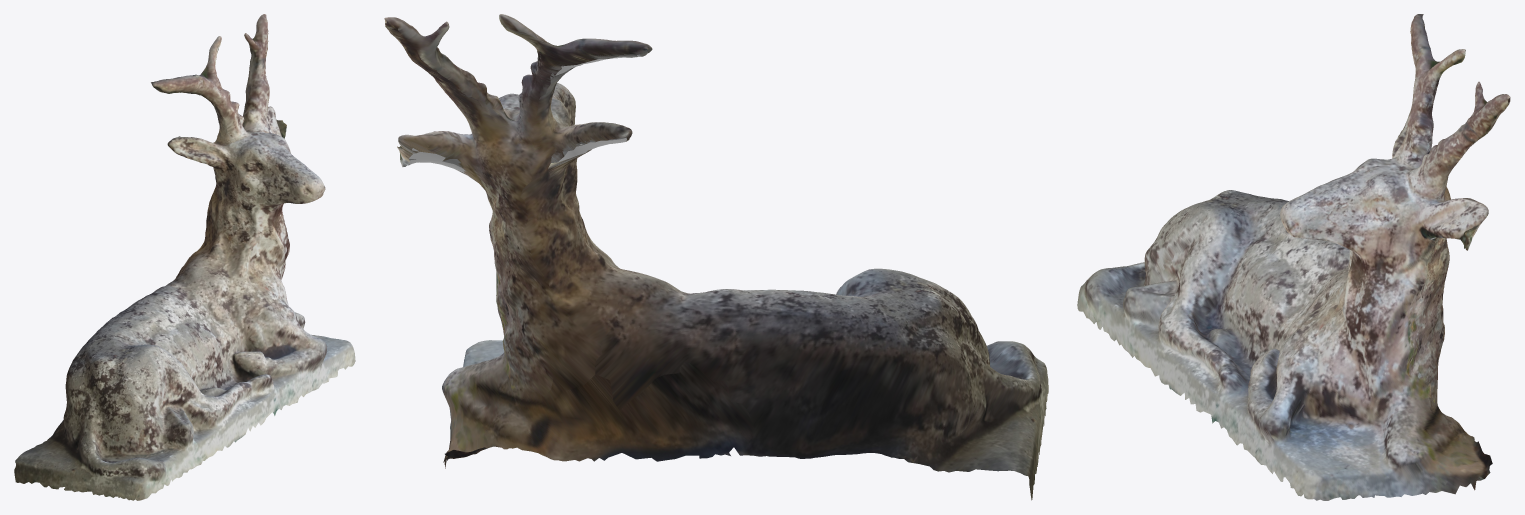
File: deer.glb
3 views of the same model, side by side, from view 1: azimuth 30°, elevation 25°; view 2: azimuth 150°, elevation 25°; view 3: azimuth 270°, elevation 25° (orthographic). The views are drawn at different scales.
Visible parts, largest first — view 1: Object_2, Object_3, Object_4; view 2: Object_3, Object_2, Object_4, Object_5; view 3: Object_2, Object_3, Object_4.
Boxes of the visible parts, x1=… form: Object_2: x1=14, y1=14, x2=355, y2=500; Object_3: x1=43, y1=37, x2=265, y2=460; Object_4: x1=171, y1=132, x2=318, y2=248; Object_3: x1=422, y1=14, x2=973, y2=472; Object_2: x1=384, y1=14, x2=1048, y2=500; Object_4: x1=443, y1=83, x2=754, y2=468; Object_5: x1=408, y1=55, x2=641, y2=172; Object_2: x1=1077, y1=14, x2=1510, y2=500; Object_3: x1=1123, y1=28, x2=1473, y2=375; Object_4: x1=1280, y1=114, x2=1492, y2=494.
Bounding box in the file's own units: 20.8 × 17.63 × 16.29.
Materials: 4 (3 with a texture image).
